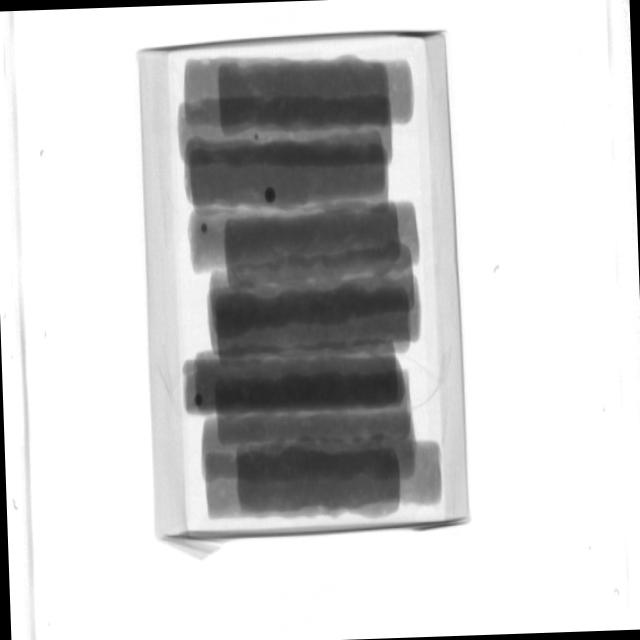ym: (265, 185, 278, 203), (195, 394, 203, 407), (202, 222, 209, 232), (253, 134, 259, 142)
